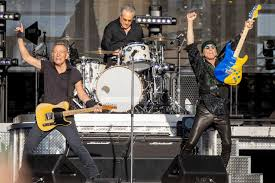acousticguitar: (215, 3, 266, 85), (37, 101, 121, 132)
